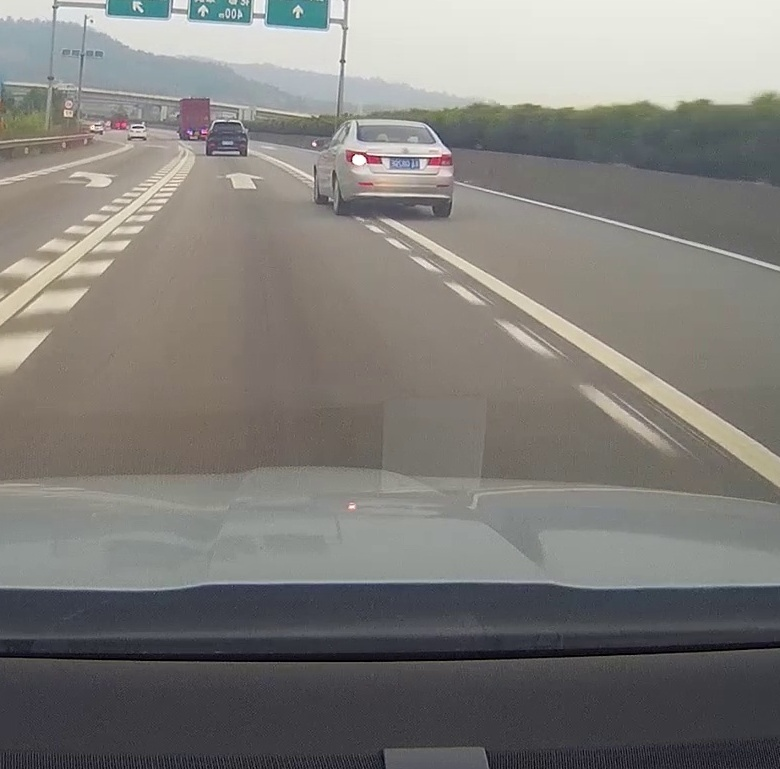L_light: (345, 149, 382, 165), (210, 132, 217, 136)
R_light: (428, 154, 452, 166), (238, 132, 246, 136)
T_light: (390, 124, 402, 129), (223, 122, 230, 124)
day-left: (344, 119, 453, 218)
day-no: (207, 120, 247, 156)
